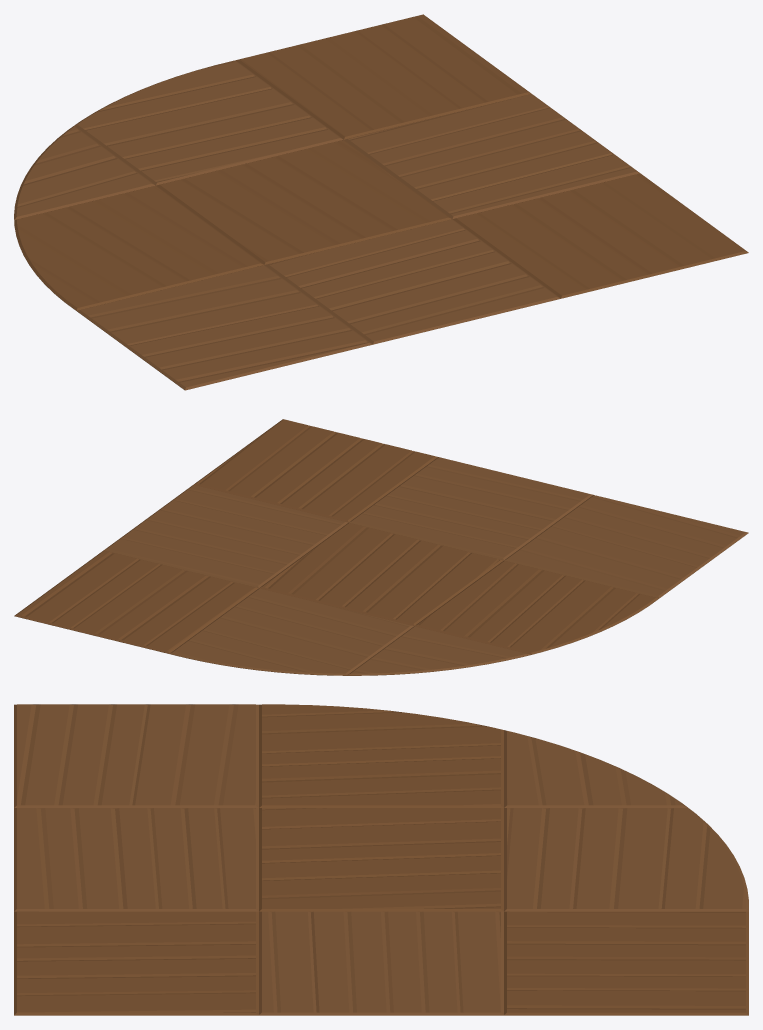
Rendered from Wood_Floor_Module_00_00.glb.
3 views of the same model, one above another, from view 1: azimuth 30°, elevation 25°; view 2: azimuth 150°, elevation 25°; view 3: azimuth 270°, elevation 25° (orthographic). The views are drawn at different scales.
Visible parts, largest first — view 1: Wood_Floor_Module_00_00; view 2: Wood_Floor_Module_00_00; view 3: Wood_Floor_Module_00_00.
Part boxes in pixels (x1,y1,x2,y2): Wood_Floor_Module_00_00: [14, 14, 748, 390]; Wood_Floor_Module_00_00: [14, 419, 748, 675]; Wood_Floor_Module_00_00: [14, 704, 748, 1015].
Bounding box in the file's own units: 4.74 × 0.012 × 4.74.
